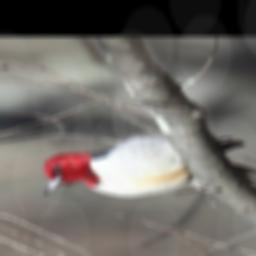Woodpecker: (42, 130, 256, 201)
